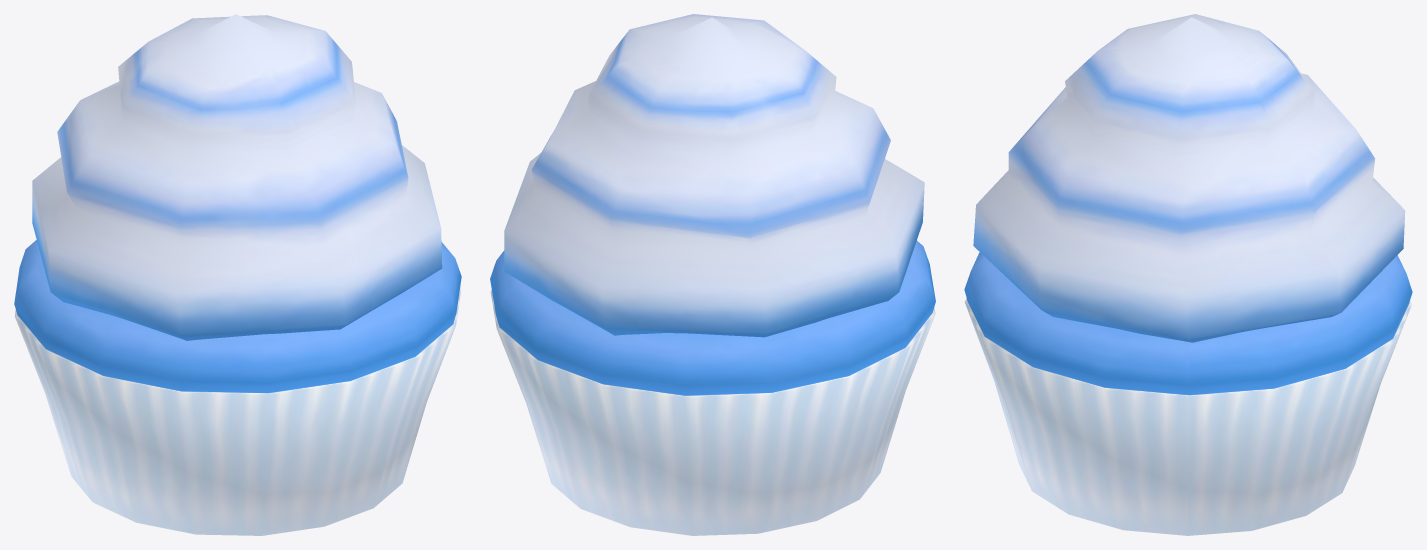
File: blue_cupcake.glb
3 views of the same model, side by side, from view 1: azimuth 30°, elevation 25°; view 2: azimuth 150°, elevation 25°; view 3: azimuth 270°, elevation 25° (orthographic).
Parts seen in each view (by area): view 1: blue_cupcake; view 2: blue_cupcake; view 3: blue_cupcake.
Boxes of the visible parts, x1,y1,x2,y2 form: blue_cupcake: (14, 14, 461, 535); blue_cupcake: (490, 14, 935, 535); blue_cupcake: (964, 14, 1412, 535).
Bounding box in the file's own units: 0.5254 × 0.5802 × 0.5254.
Materials: 1 (1 with a texture image).
